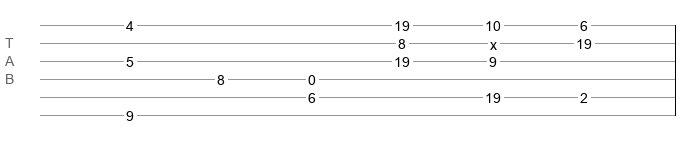0: (308, 72, 316, 82)
10: (485, 18, 501, 28)
19: (394, 54, 410, 64), (394, 18, 410, 28), (485, 90, 501, 100), (576, 36, 592, 46)
2: (580, 90, 588, 100)
4: (126, 18, 134, 28)
5: (126, 54, 134, 64)
6: (308, 90, 316, 100), (580, 18, 588, 28)
8: (217, 72, 225, 82), (398, 36, 406, 46)
9: (126, 108, 134, 118), (489, 54, 497, 64)
x: (490, 37, 497, 45)
